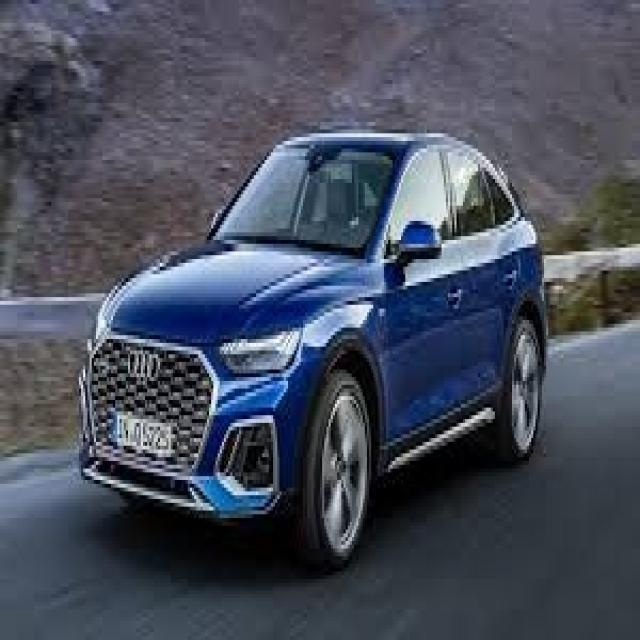blue: (79, 127, 548, 503)
